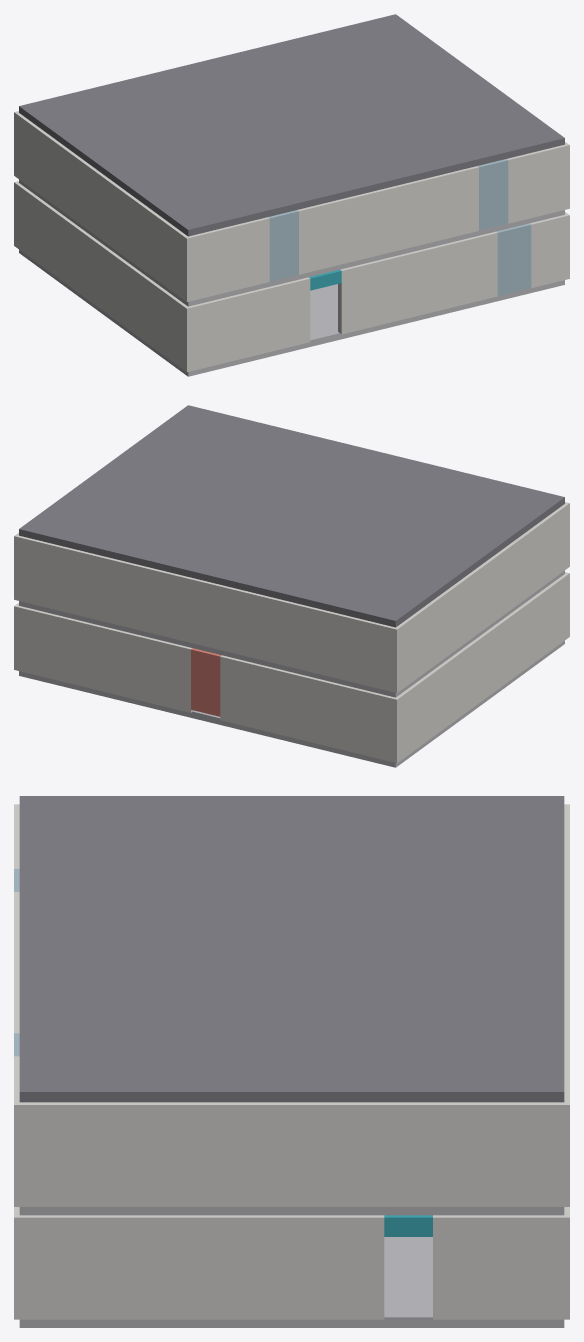
The model's file is pawn_shop_a02.glb.
3 renders of one model, top to bottom at view 1: azimuth 30°, elevation 25°; view 2: azimuth 150°, elevation 25°; view 3: azimuth 270°, elevation 25°, orthographic. The views are drawn at different scales.
Parts seen in each view (by area): view 1: slab_2_t0_0, slab_2_t0_2, slab_2_t0_3, slab_2_t0_1, slab_2_t2_0, slab_2_t1_0, slab_2_t2_1, slab_2_t1_2, slab_2_t1_3, slab_2_t2_2, slab_2_t2_3, slab_2_t1_1 (+50 smaller); view 2: slab_2_t2_0, slab_2_t2_2, slab_2_t2_3, slab_2_t2_1, slab_2_t0_0, slab_2_t1_0, slab_2_t0_1, slab_2_t0_2, slab_2_t0_3, slab_2_t1_2, slab_2_t1_3, slab_2_t1_1 (+44 smaller); view 3: slab_2_t0_3, slab_2_t2_3, slab_2_t1_3, slab_2_t0_0, slab_2_t0_1, slab_2_t0_2, slab_2_t2_0, slab_2_t2_1, slab_2_t2_2, slab_2_t1_0, slab_2_t1_1, slab_2_t1_2 (+25 smaller).
Part boxes in pixels (left/top/right/bottom): slab_2_t0_0: left=131, top=166, right=282, bottom=236; slab_2_t0_2: left=320, top=119, right=470, bottom=190; slab_2_t0_3: left=415, top=97, right=564, bottom=167; slab_2_t0_1: left=226, top=143, right=376, bottom=213; slab_2_t2_0: left=19, top=83, right=169, bottom=153; slab_2_t1_0: left=75, top=124, right=225, bottom=194; slab_2_t2_1: left=113, top=60, right=263, bottom=124; slab_2_t1_2: left=264, top=78, right=413, bottom=142; slab_2_t1_3: left=358, top=55, right=508, bottom=119; slab_2_t2_2: left=207, top=37, right=357, bottom=101; slab_2_t2_3: left=302, top=14, right=451, bottom=78; slab_2_t1_1: left=170, top=101, right=319, bottom=165; slab_2_t2_0: left=301, top=557, right=452, bottom=627; slab_2_t2_2: left=113, top=510, right=263, bottom=581; slab_2_t2_3: left=19, top=488, right=168, bottom=558; slab_2_t2_1: left=207, top=534, right=357, bottom=604; slab_2_t0_0: left=414, top=474, right=564, bottom=544; slab_2_t1_0: left=358, top=515, right=508, bottom=585; slab_2_t0_1: left=320, top=451, right=470, bottom=515; slab_2_t0_2: left=226, top=428, right=376, bottom=492; slab_2_t0_3: left=132, top=405, right=281, bottom=469; slab_2_t1_2: left=170, top=469, right=319, bottom=533; slab_2_t1_3: left=75, top=446, right=225, bottom=510; slab_2_t1_1: left=264, top=492, right=413, bottom=556; slab_2_t0_3: left=19, top=1018, right=201, bottom=1102; slab_2_t2_3: left=382, top=1018, right=564, bottom=1102; slab_2_t1_3: left=201, top=1018, right=382, bottom=1102; slab_2_t0_0: left=19, top=796, right=201, bottom=869; slab_2_t0_1: left=19, top=870, right=201, bottom=943; slab_2_t0_2: left=19, top=944, right=201, bottom=1017; slab_2_t2_0: left=382, top=796, right=564, bottom=869; slab_2_t2_1: left=382, top=870, right=564, bottom=943; slab_2_t2_2: left=382, top=944, right=564, bottom=1017; slab_2_t1_0: left=201, top=796, right=382, bottom=869; slab_2_t1_1: left=201, top=870, right=382, bottom=943; slab_2_t1_2: left=201, top=944, right=382, bottom=1017.
Size of what is drawn, in the model's own units: 18.3 by 6.7 by 14.3.
